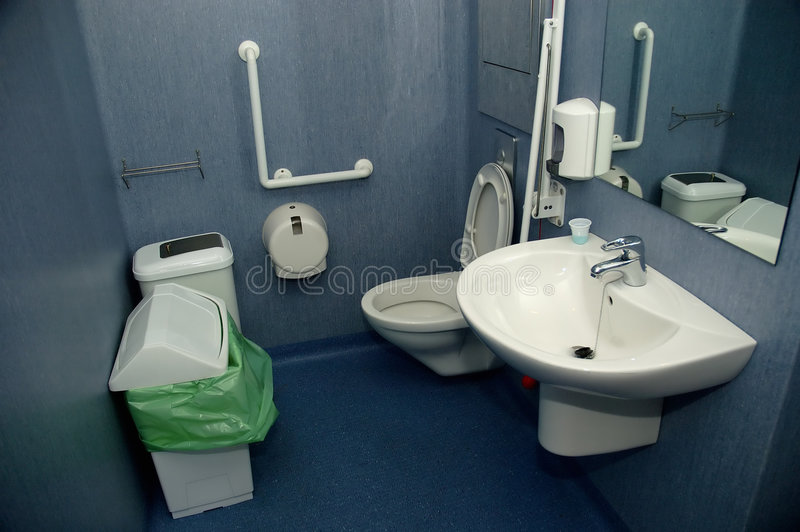dispenser: (255, 197, 337, 281), (544, 94, 597, 184)
faucet: (589, 234, 649, 288)
restroom_assist_bar: (238, 38, 377, 192), (520, 16, 554, 249)
sink: (455, 230, 758, 457)
toilet: (364, 158, 516, 373)
waste_bin: (108, 283, 278, 532), (132, 228, 242, 343)
